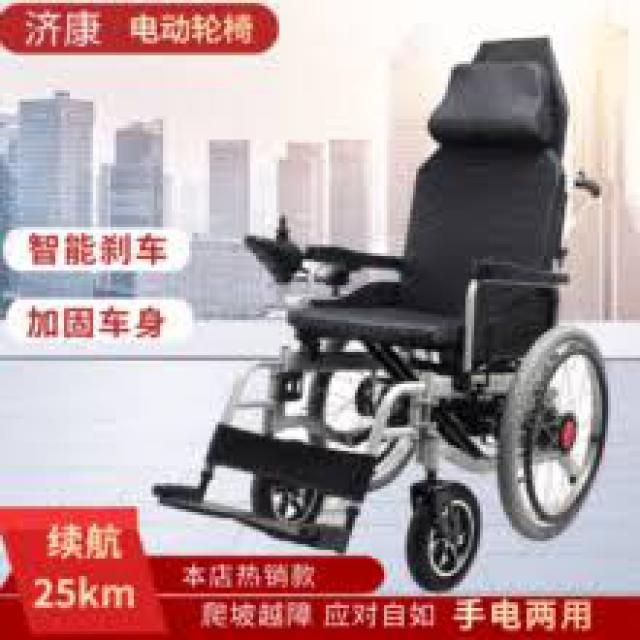wheelchair: (148, 18, 622, 590)
